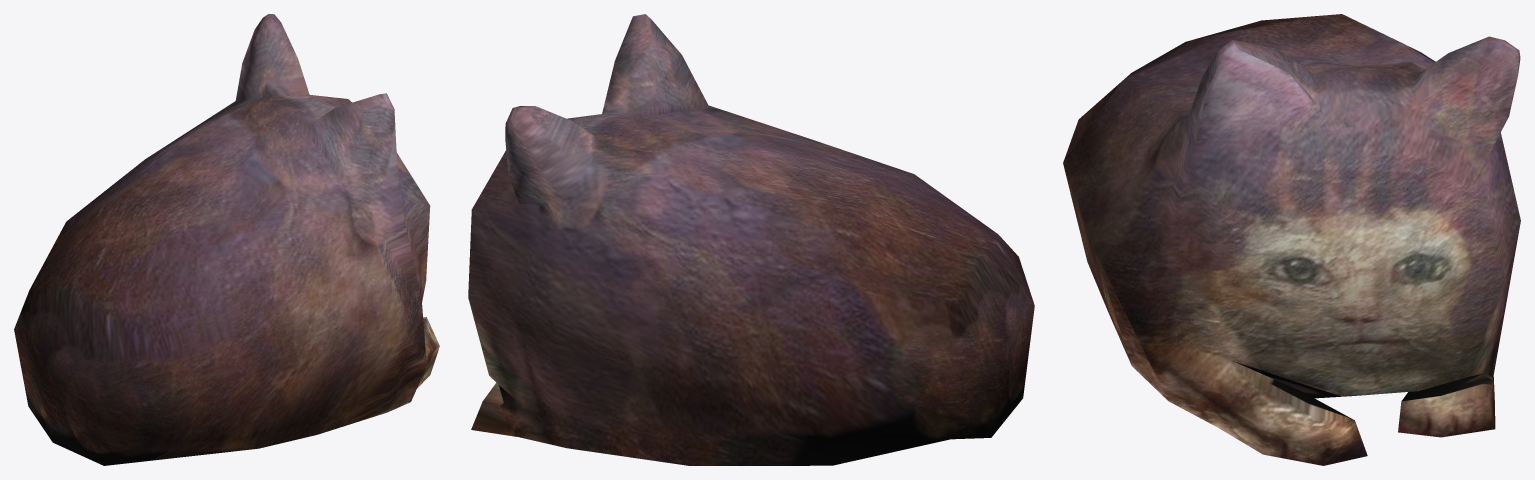
The model's file is CatSmol.fbx.
3 views of the same model, side by side, from view 1: azimuth 30°, elevation 25°; view 2: azimuth 150°, elevation 25°; view 3: azimuth 270°, elevation 25° (orthographic). The views are drawn at different scales.
Parts seen in each view (by area): view 1: CatSmol; view 2: CatSmol; view 3: CatSmol.
Part boxes in pixels (x1,y1,x2,y2): CatSmol: [14, 14, 439, 465]; CatSmol: [468, 14, 1034, 465]; CatSmol: [1063, 14, 1520, 465].
Bounding box in the file's own units: 354 × 255 × 279.
